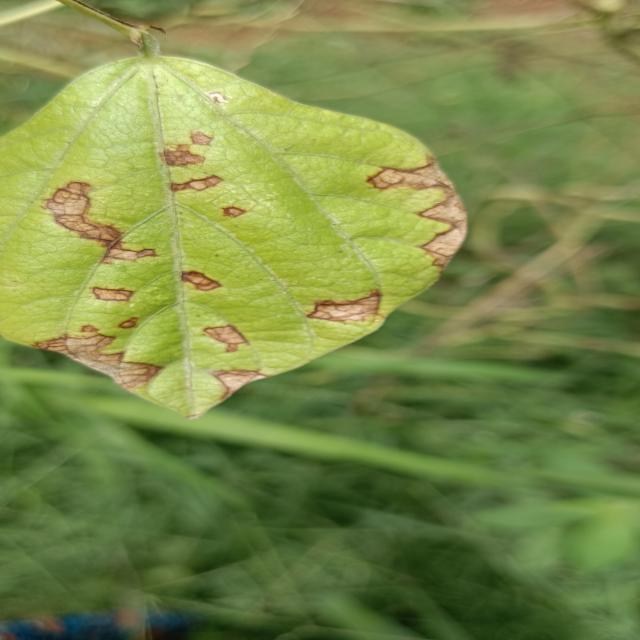Dolicos bean_cercospora leaf spot: (0, 60, 470, 422)
